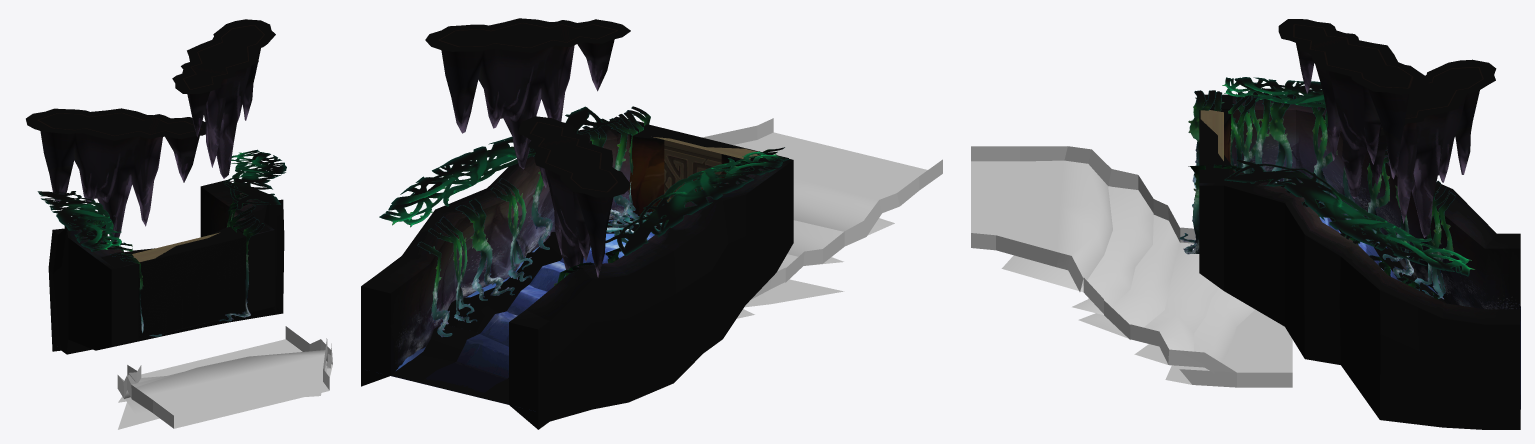
File: Dungeon_012_GoalStepD_003.fbx
3 views of the same model, side by side, from view 1: azimuth 30°, elevation 25°; view 2: azimuth 150°, elevation 25°; view 3: azimuth 270°, elevation 25° (orthographic). The views are drawn at different scales.
Parts seen in each view (by area): view 1: Dan1, Dan2 (1), Dungeon_011_Iwa004_1, Dun_011_Door_002_old, Dungeon_011_Iwa004_1 (1), Dungeon_021_Tsuta_002, Dun_011_Door_002, Dungeon_021_Tsuta_001, Dun_011_Door_003_WarpRoom; view 2: Dan1, Dan2 (1), Dungeon_011_Iwa004_1 (1), Dungeon_021_Tsuta_002, Dungeon_011_Iwa004_1, Dungeon_021_Tsuta_001, Dan2, Dan1_shadow, Dun_011_Door_002_old, Dun_011_Door_003_WarpRoom; view 3: Dan1, Dan2 (1), Dungeon_011_Iwa004_1 (1), Dungeon_011_Iwa004_1, Dungeon_021_Tsuta_001, Dungeon_021_Tsuta_002, Dun_011_Door_002_old, Dun_011_Door_003_WarpRoom, Dan1_shadow.
Boxes of the visible parts, x1,y1,x2,y2 form: Dan1: [48, 180, 284, 354]; Dan2 (1): [117, 326, 332, 429]; Dungeon_011_Iwa004_1: [26, 108, 205, 242]; Dun_011_Door_002_old: [101, 225, 270, 338]; Dungeon_011_Iwa004_1 (1): [172, 19, 275, 178]; Dungeon_021_Tsuta_002: [37, 149, 286, 251]; Dun_011_Door_002: [103, 220, 270, 339]; Dungeon_021_Tsuta_001: [74, 193, 264, 336]; Dun_011_Door_003_WarpRoom: [132, 232, 219, 262]; Dan1: [361, 116, 793, 429]; Dan2 (1): [702, 118, 942, 318]; Dungeon_011_Iwa004_1 (1): [425, 18, 630, 169]; Dungeon_021_Tsuta_002: [379, 106, 789, 255]; Dungeon_011_Iwa004_1: [518, 116, 630, 277]; Dungeon_021_Tsuta_001: [417, 106, 784, 337]; Dan2: [391, 232, 692, 404]; Dan1_shadow: [391, 218, 646, 403]; Dun_011_Door_002_old: [604, 117, 788, 219]; Dun_011_Door_003_WarpRoom: [653, 137, 759, 201]; Dan1: [1199, 94, 1520, 429]; Dan2 (1): [971, 146, 1292, 387]; Dungeon_011_Iwa004_1 (1): [1278, 19, 1428, 198]; Dungeon_011_Iwa004_1: [1368, 59, 1496, 237]; Dungeon_021_Tsuta_001: [1179, 90, 1455, 299]; Dungeon_021_Tsuta_002: [1222, 77, 1474, 276]; Dun_011_Door_002_old: [1199, 96, 1232, 182]; Dun_011_Door_003_WarpRoom: [1200, 110, 1223, 160]; Dan1_shadow: [1316, 199, 1445, 303].
Size of what is drawn, in the model's own units: 8.47 by 7.6 by 11.5.
